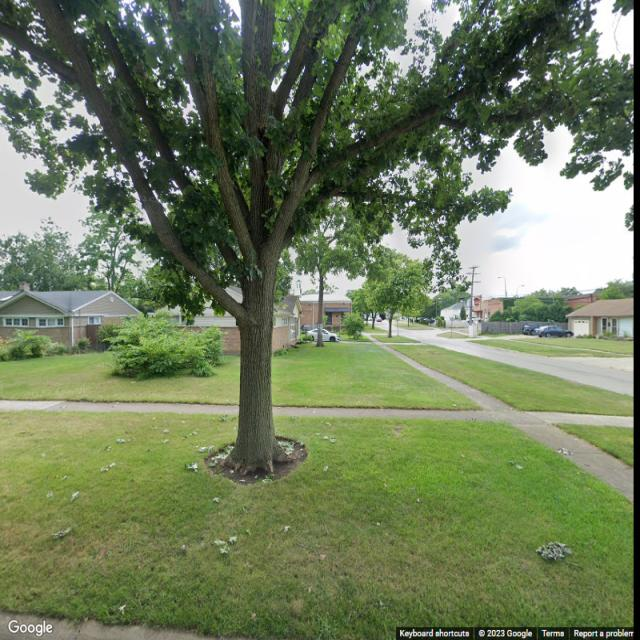House: (0, 285, 141, 356), (149, 287, 302, 352), (568, 292, 634, 339), (300, 291, 353, 339)
